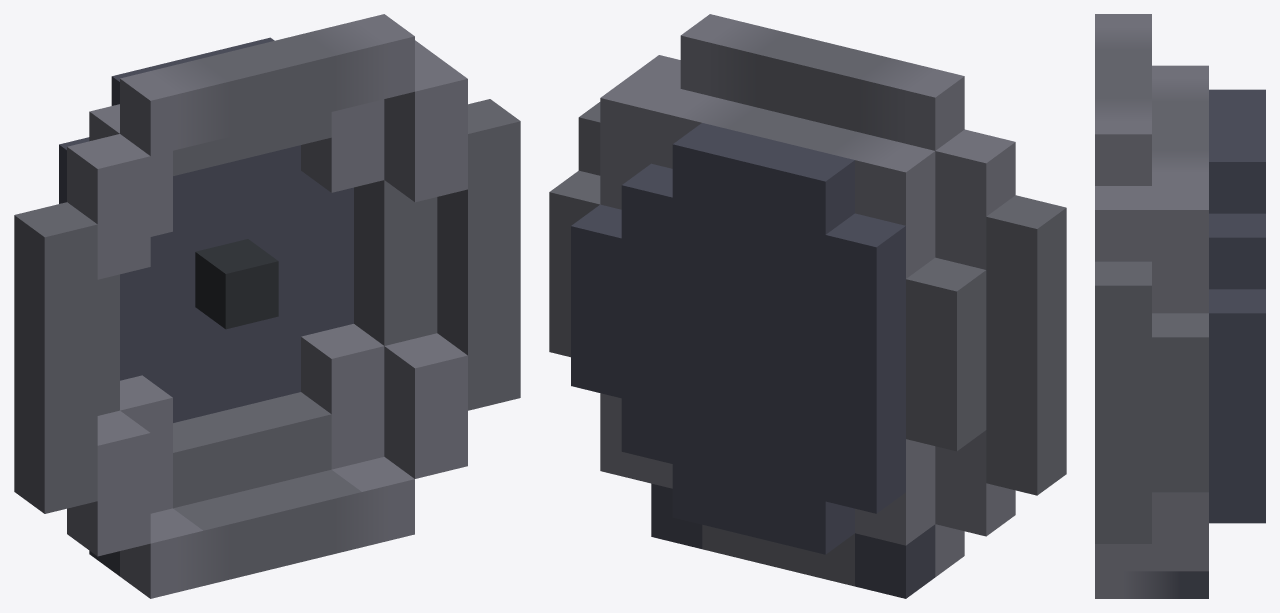
Rendered from SateliteDish.fbx.
3 views of the same model, side by side, from view 1: azimuth 30°, elevation 25°; view 2: azimuth 150°, elevation 25°; view 3: azimuth 270°, elevation 25° (orthographic). The views are drawn at different scales.
Parts seen in each view (by area): view 1: SateliteDish; view 2: SateliteDish; view 3: SateliteDish.
Part boxes in pixels (x1=…): SateliteDish: x1=14, y1=14, x2=520, y2=598; SateliteDish: x1=549, y1=14, x2=1066, y2=598; SateliteDish: x1=1095, y1=14, x2=1265, y2=598.
Size of the model in its own units: 90 by 90 by 30.
Materials: 1 (1 with a texture image).
